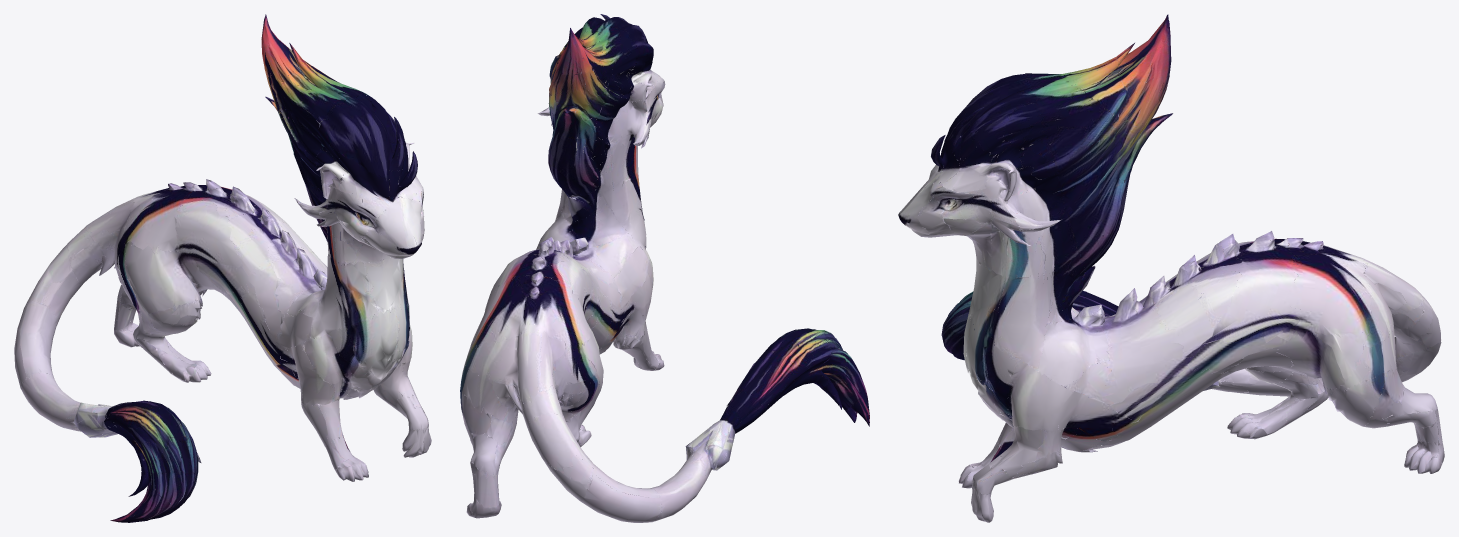
The picture shows the model from 3 angles, left to right: view 1: azimuth 30°, elevation 25°; view 2: azimuth 150°, elevation 25°; view 3: azimuth 270°, elevation 25°; orthographic projection. The views are drawn at different scales.
Parts seen in each view (by area): view 1: Mesh_0; view 2: Mesh_0; view 3: Mesh_0.
Part boxes in pixels (x1,y1,x2,y2): Mesh_0: [14, 14, 431, 522]; Mesh_0: [460, 14, 869, 522]; Mesh_0: [898, 14, 1444, 522].
Size of the model in its own units: 1.47 by 1.81 by 1.9.
1 material, 1 textured.
